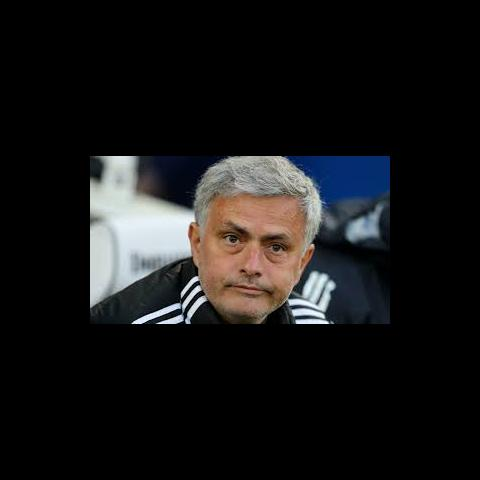opened: (214, 219, 294, 259)
